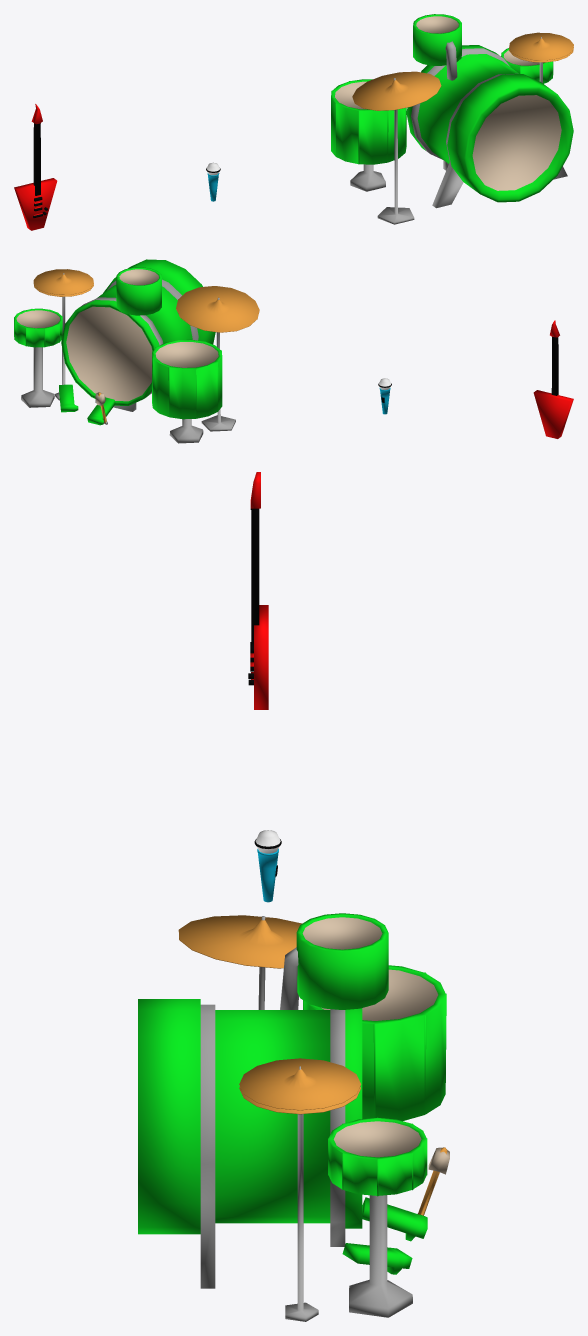
The model's file is Instruments.fbx.
The picture shows the model from 3 angles, top to bottom: view 1: azimuth 30°, elevation 25°; view 2: azimuth 150°, elevation 25°; view 3: azimuth 270°, elevation 25°; orthographic projection. The views are drawn at different scales.
Visible parts, largest first — view 1: Drums, Guitar, Cylinder; view 2: Drums, Guitar, Cylinder; view 3: Drums, Guitar, Cylinder.
Part boxes in pixels (x1,y1,x2,y2): Drums: (331, 14, 573, 224); Guitar: (14, 104, 57, 230); Cylinder: (206, 162, 220, 201); Drums: (14, 259, 259, 443); Guitar: (533, 320, 573, 438); Cylinder: (378, 378, 391, 414); Drums: (138, 913, 449, 1321); Guitar: (248, 472, 268, 709); Cylinder: (254, 830, 281, 902).
Bounding box in the file's own units: 1430 × 485 × 367.
